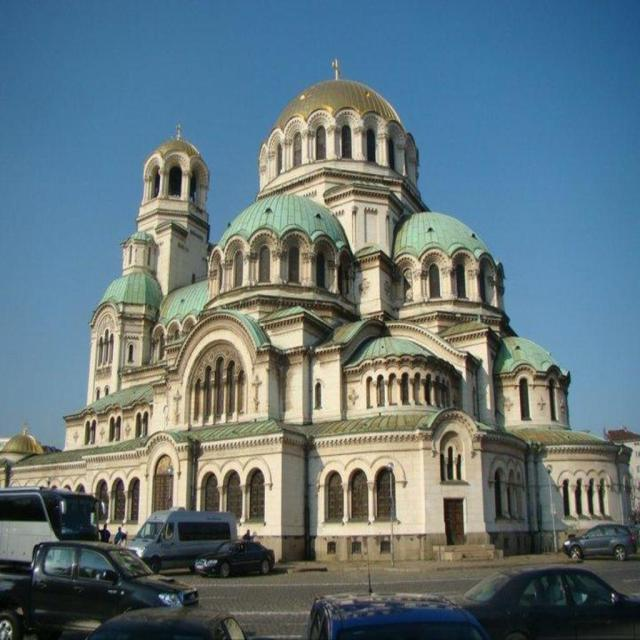car: (190, 532, 276, 578), (564, 523, 636, 559)
